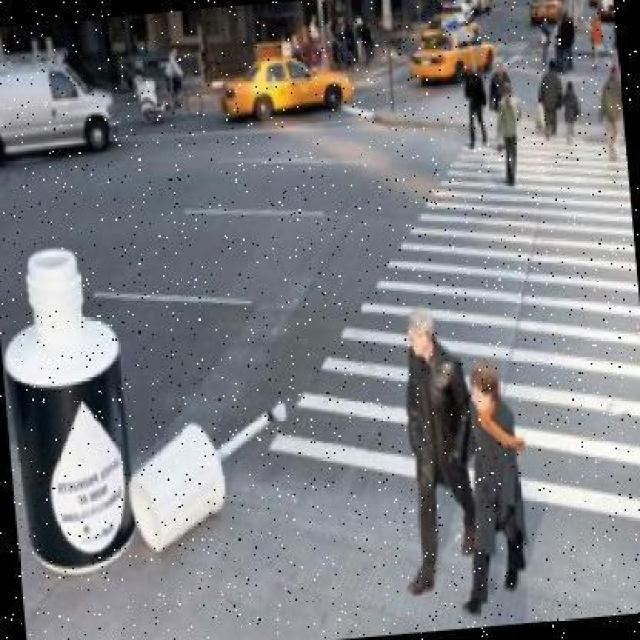Person: (383, 309, 482, 596), (445, 364, 533, 622), (491, 81, 527, 188), (592, 61, 626, 164), (459, 61, 492, 152), (534, 62, 566, 141), (557, 77, 585, 149), (486, 58, 512, 118)
